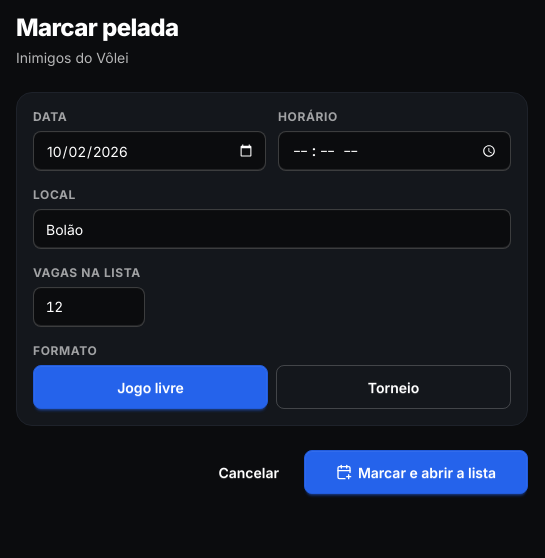
it: MarkPeladaView › sem horario nao marca e diz o que falta
Click the button "Marcar e abrir a lista" at (416, 472), box [304,450,528,494]
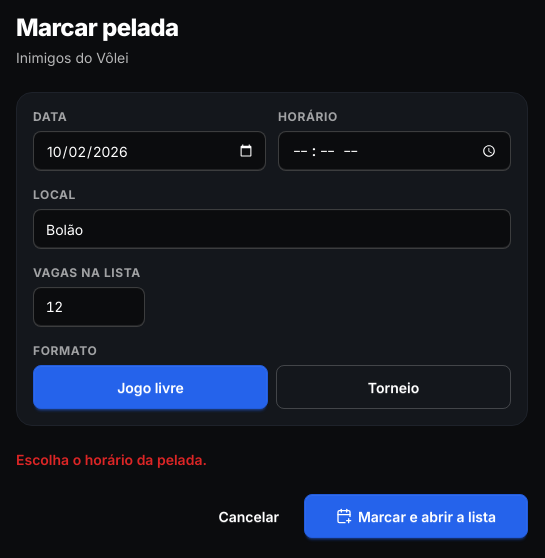
Expected: the message reads "Escolha o horário da pelada.", [16,451,207,468]
